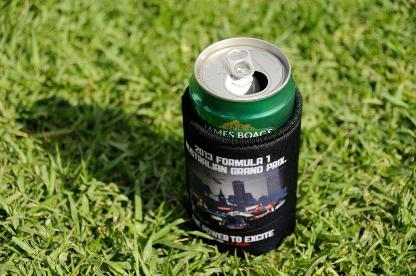Can: (182, 34, 316, 258)
